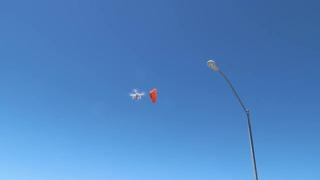UAV: (130, 90, 144, 102)
